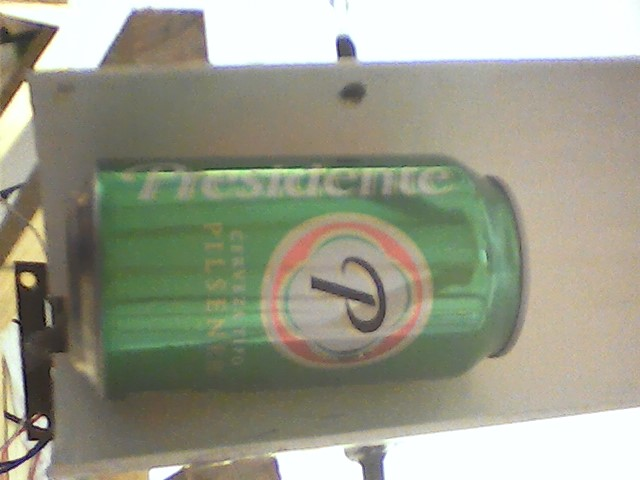lata: (62, 143, 541, 410)
